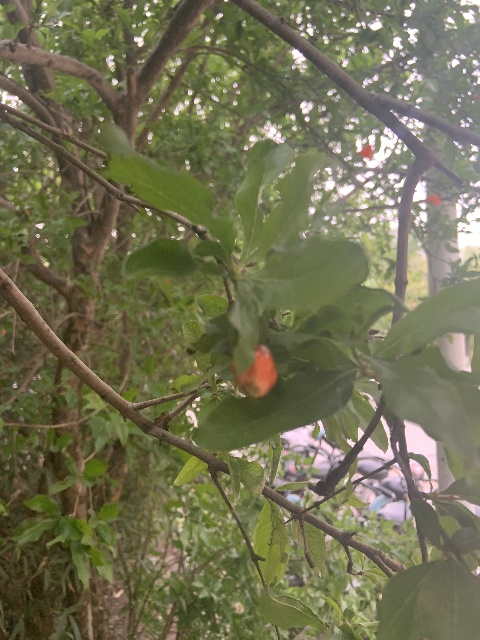bud: (233, 344, 277, 398)
flower: (357, 145, 373, 160), (425, 194, 440, 205)
